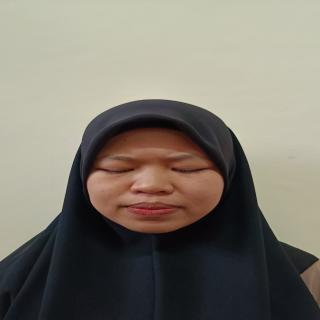Sedih: (77, 119, 231, 237)
